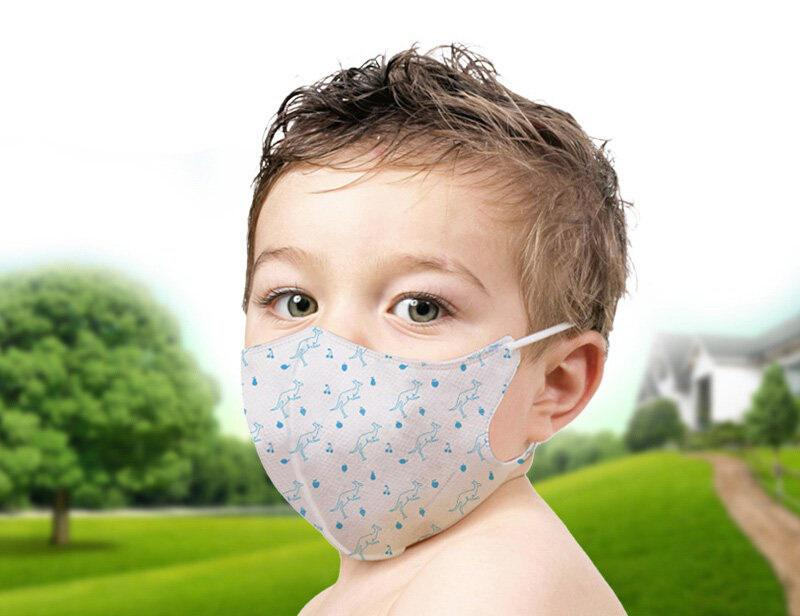OK: (244, 225, 514, 554)
